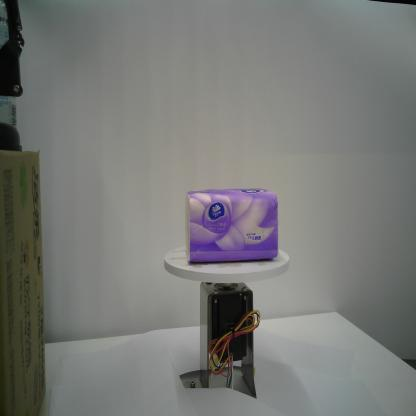Tissue: (182, 185, 279, 266)
